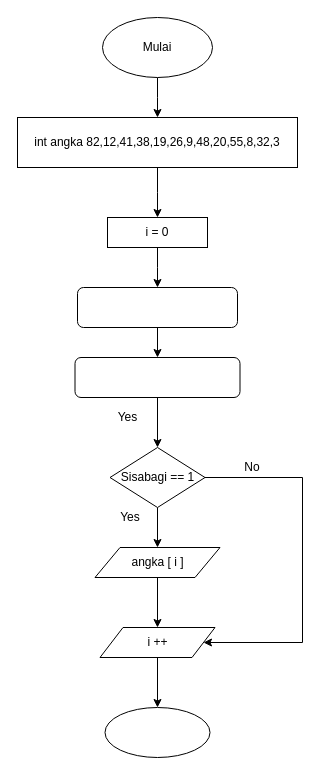
Image size: 328x775. Some labels were removed from this diagram. Each missing label, with the centre of its shape:
Selesai: point (157, 732)
Sisabagi = angka [ i ] % 2: point (157, 377)
While i < panjang array: point (157, 307)
